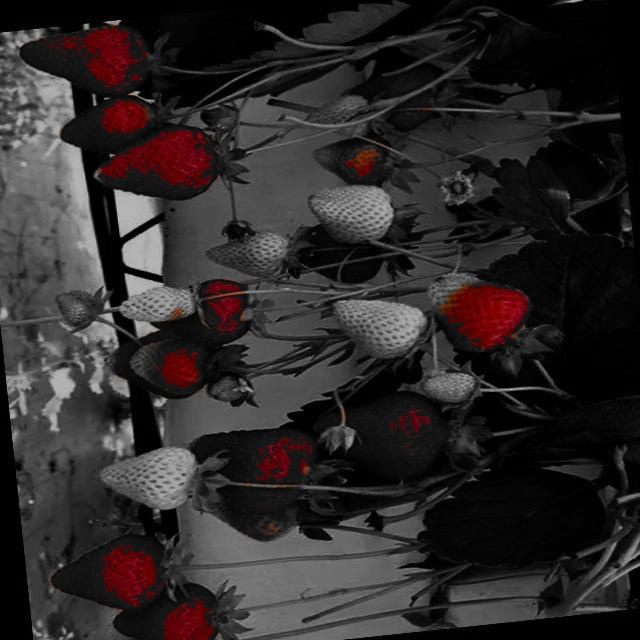ripe: (312, 382, 461, 487), (187, 422, 323, 522), (86, 120, 223, 212), (15, 20, 160, 101), (48, 532, 174, 616), (341, 58, 448, 136), (107, 576, 230, 640), (54, 91, 162, 158)
unripe: (422, 258, 536, 352), (96, 440, 220, 518), (317, 292, 431, 362), (193, 492, 303, 549), (311, 132, 404, 196), (306, 180, 396, 246), (204, 224, 298, 283), (304, 93, 376, 140), (118, 286, 188, 334), (46, 284, 106, 338), (416, 366, 479, 408), (202, 372, 248, 406)
